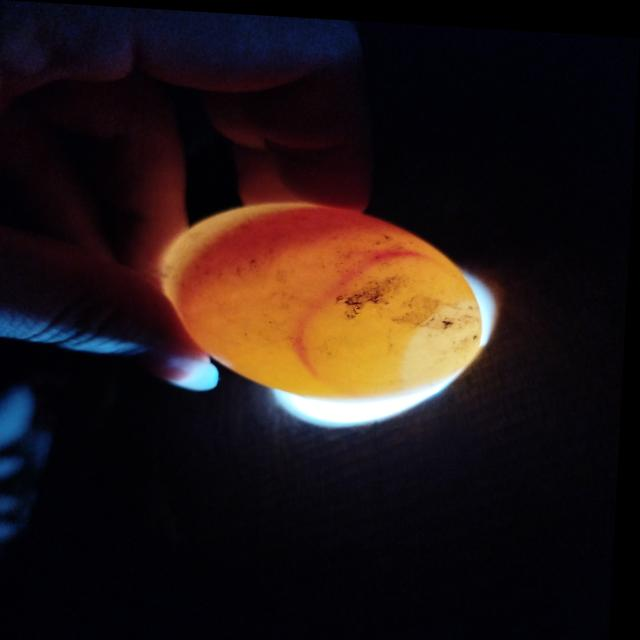Camara de Ar: (406, 296, 486, 383)
Gema Quebrada: (180, 203, 391, 326)
